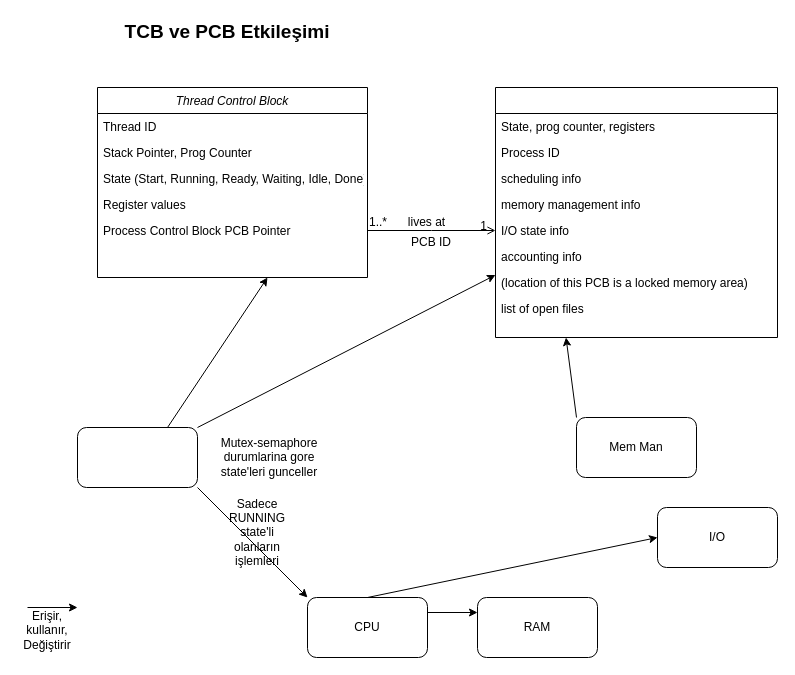
The diagram is 795 pixels wide and 675 high, and some of its shapes have lost their labels. Here are the shapes that lost their labels. From the top down, the box of each, then its label:
(494, 86, 778, 338): Process Control Block
(76, 426, 198, 488): Scheduler
